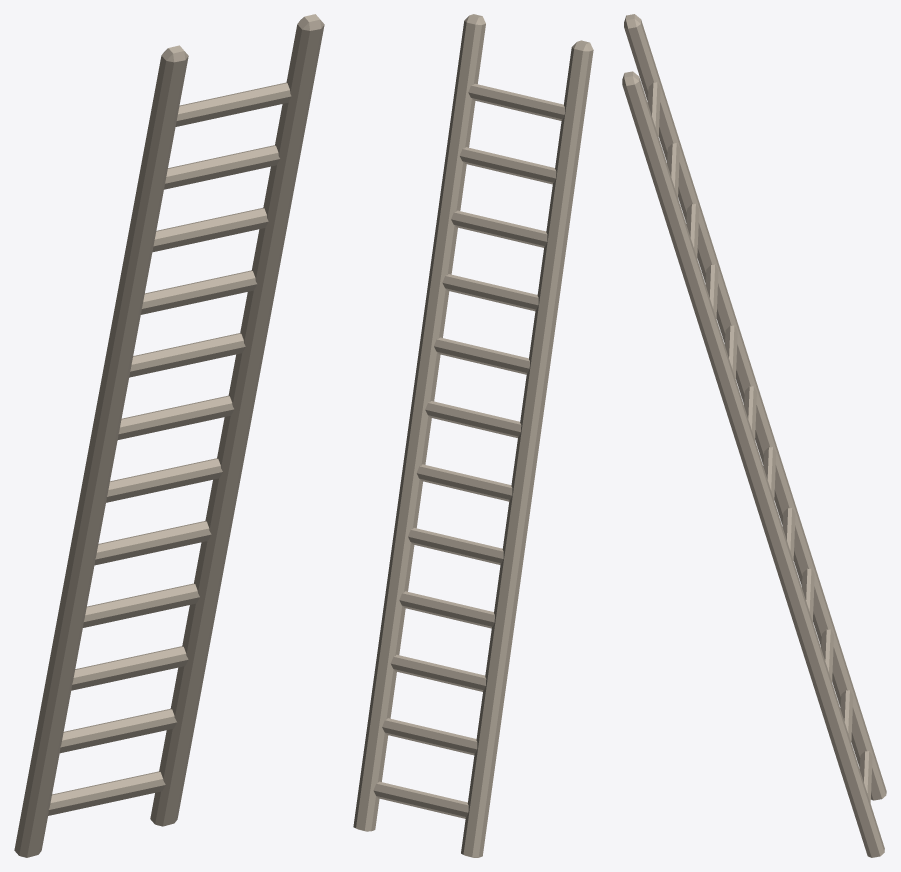
The model's file is LadderVoorAnimatie.fbx.
The picture shows the model from 3 angles, left to right: view 1: azimuth 30°, elevation 25°; view 2: azimuth 150°, elevation 25°; view 3: azimuth 270°, elevation 25°; orthographic projection. The views are drawn at different scales.
Visible parts, largest first — view 1: polySurface80; view 2: polySurface80; view 3: polySurface80.
Part boxes in pixels (bbox=[...]): polySurface80: bbox=[14, 14, 324, 857]; polySurface80: bbox=[353, 14, 593, 857]; polySurface80: bbox=[622, 14, 886, 857].
Size of the model in its own units: 0.433 by 2.32 by 0.7111.
